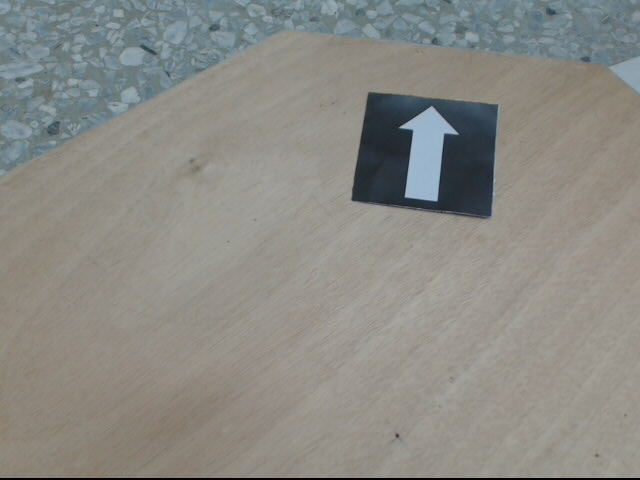straight: (350, 92, 497, 218)
